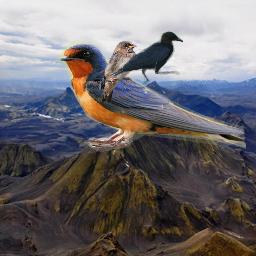Crow: (109, 31, 183, 84)
Swallow: (55, 39, 246, 154), (97, 40, 137, 103)
